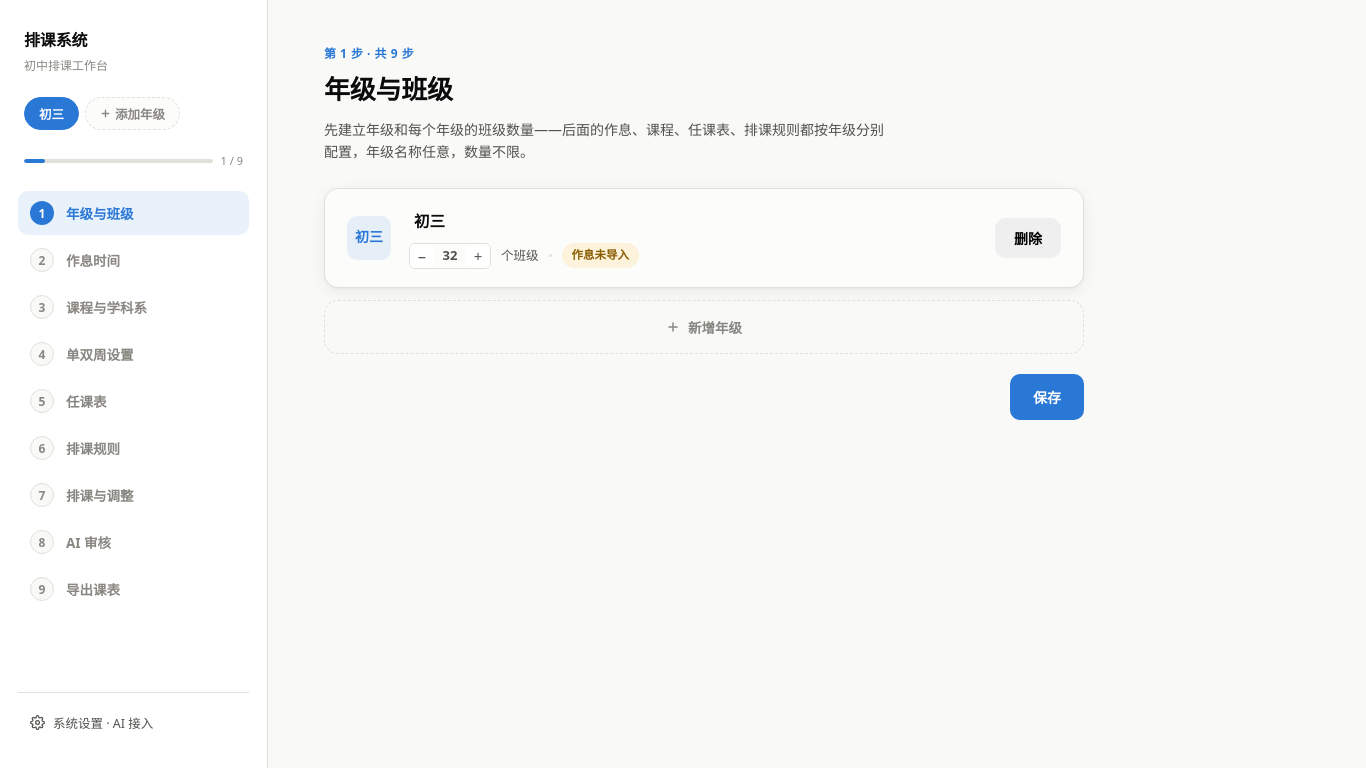
Test case: App navigation › opening settings shows AiSettings and hides the step content; a nav click returns to it
This screenshot has width=1366, height=768.
Click the button with test id "open-settings". click: click(134, 722)
box: [24,705,243,740]
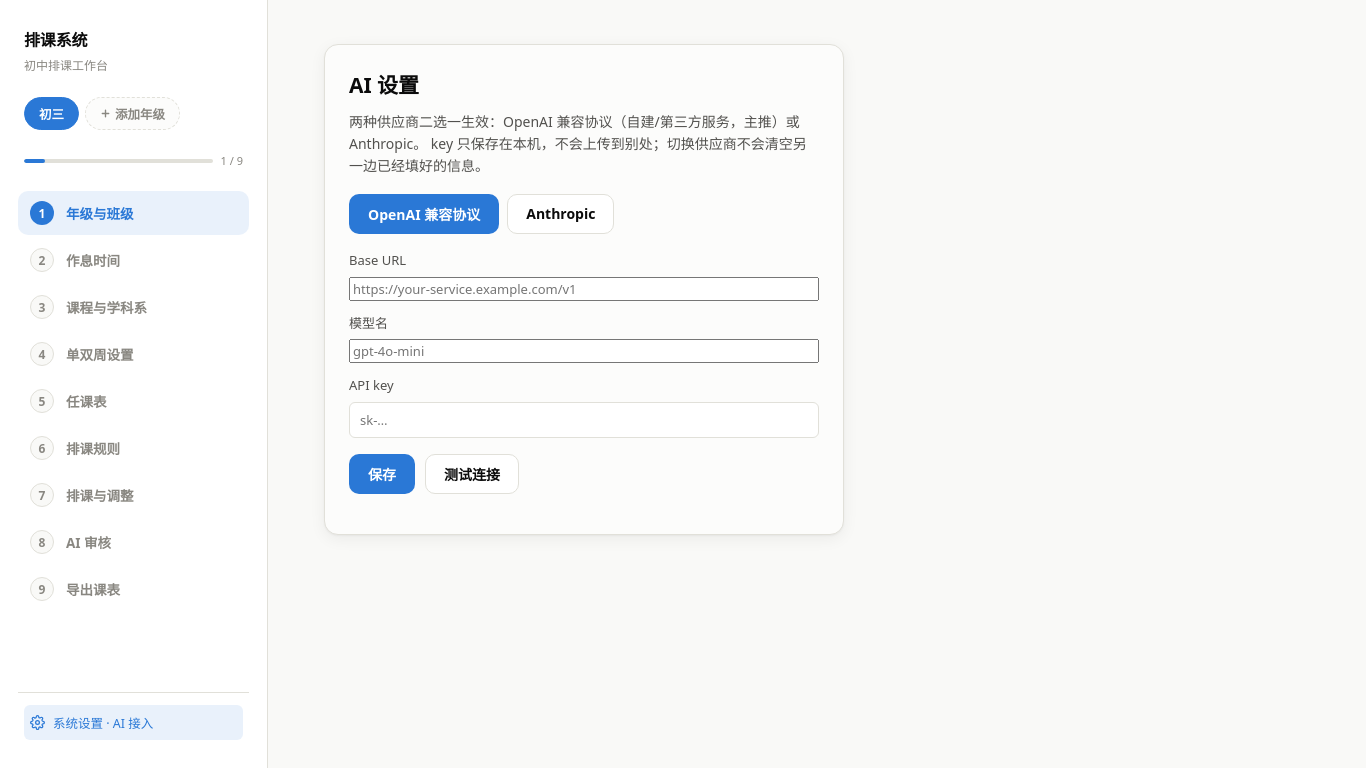
Check: the element that starts with "AI 设置" is shown, box [324,44,844,535]
Click the button with test id "nav-step" showing "1 年级与班级". click: click(134, 213)
box: [18,191,249,235]
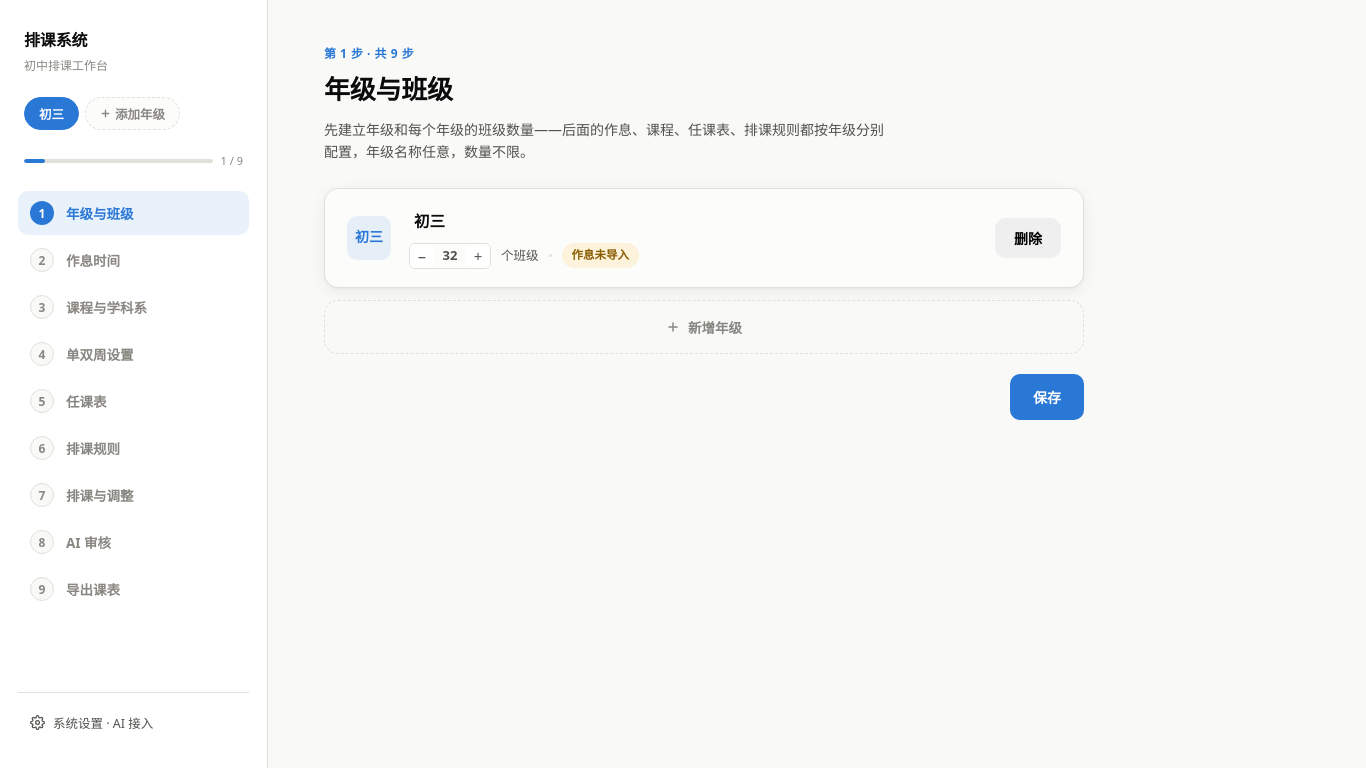
Check: the element that starts with "第 1 步 · 共 9 步" is shown, box [324,44,1084,420]
